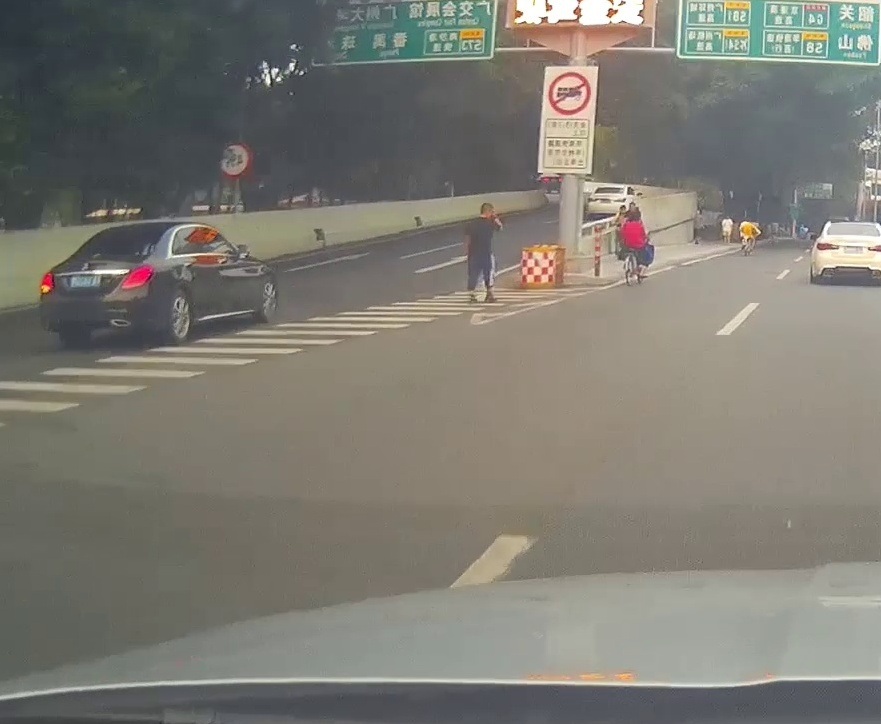L_light: (41, 272, 54, 294), (816, 242, 839, 250)
R_light: (121, 265, 153, 289), (869, 245, 881, 251)
T_light: (850, 224, 861, 227), (125, 232, 138, 234)
day-left: (38, 221, 168, 345)
day-no: (811, 219, 881, 284)
